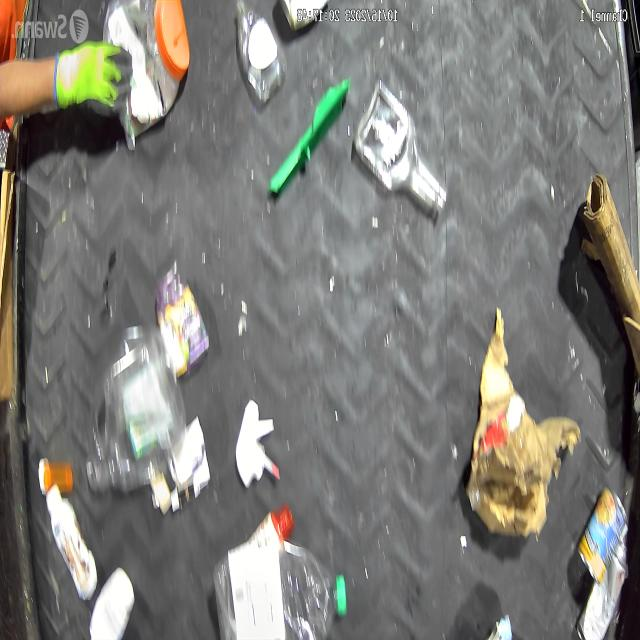can: (153, 255, 212, 376), (575, 477, 635, 581)
non_white_jug: (85, 322, 192, 493), (105, 0, 186, 135)
plastic_bottle: (214, 535, 347, 640)
